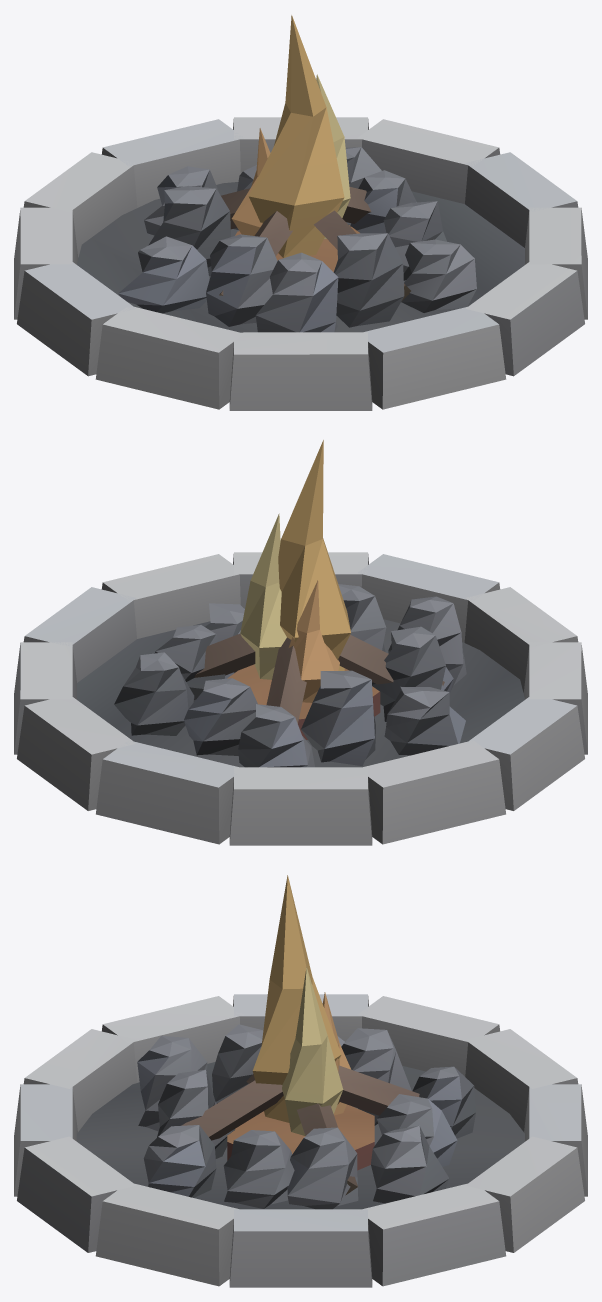
Rendered from firepit.lod1.glb.
3 renders of one model, top to bottom at view 1: azimuth 30°, elevation 25°; view 2: azimuth 150°, elevation 25°; view 3: azimuth 270°, elevation 25°, orthographic.
Size of the model in its own units: 1.94 by 1.06 by 1.94.
